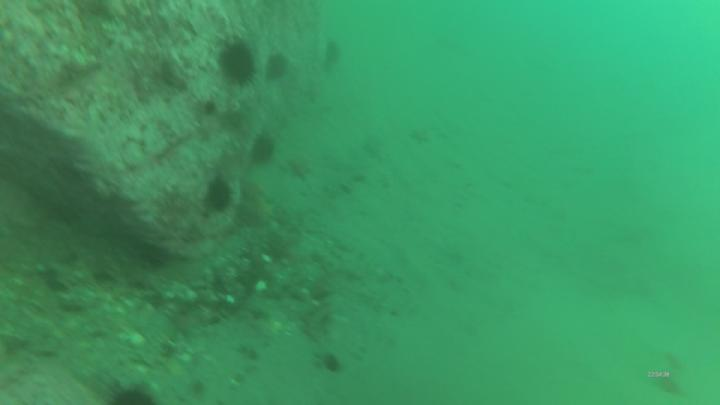echinus: (222, 45, 253, 86), (208, 181, 233, 214), (252, 137, 275, 166), (326, 39, 342, 70), (271, 56, 287, 86)
